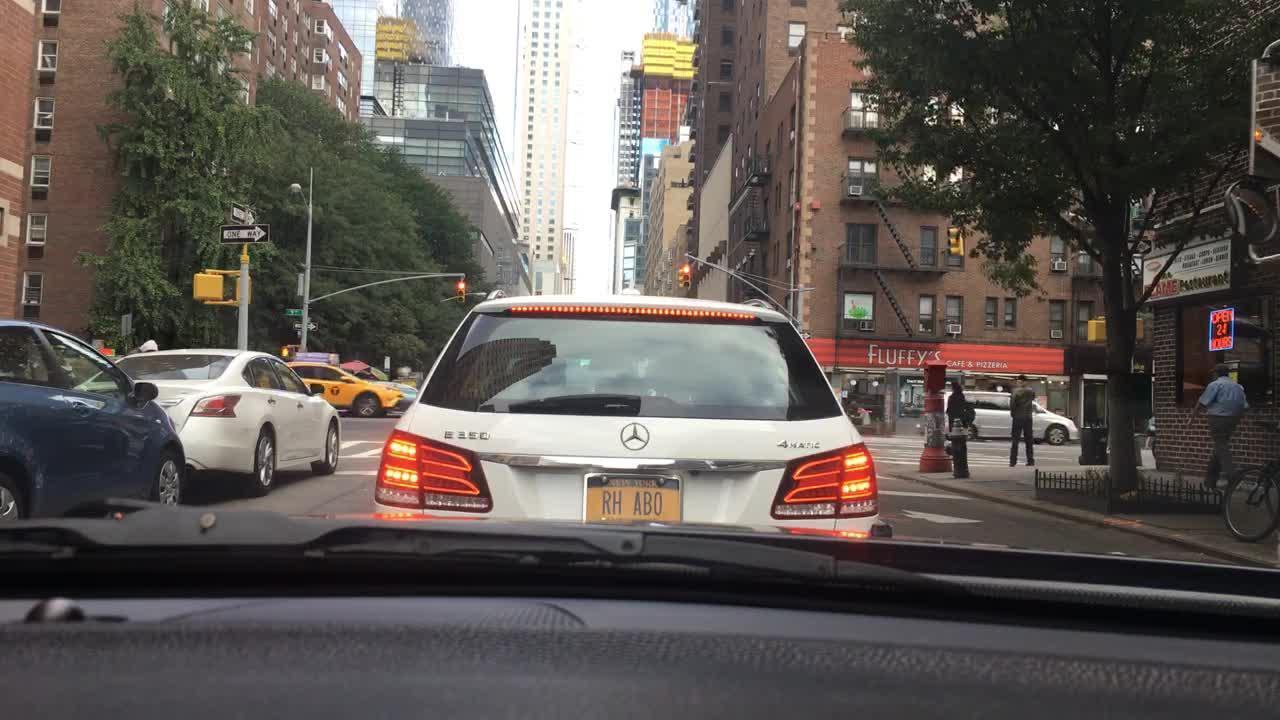Mercedes: (610, 418, 661, 460)
